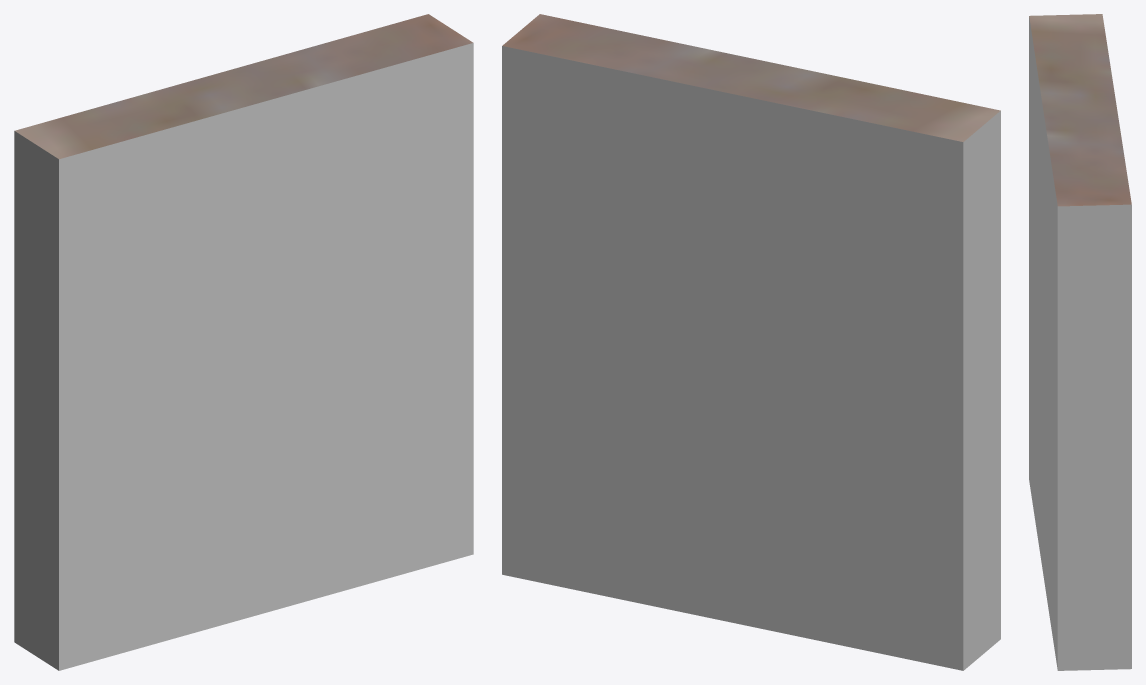
Rendered from DEBW_0010007THXd.gltf.
3 views of the same model, side by side, from view 1: azimuth 30°, elevation 25°; view 2: azimuth 150°, elevation 25°; view 3: azimuth 270°, elevation 25° (orthographic). The views are drawn at different scales.
Parts seen in each view (by area): view 1: Z_UP; view 2: Z_UP; view 3: Z_UP.
Part boxes in pixels (bbox=[...]): Z_UP: bbox=[14, 14, 473, 670]; Z_UP: bbox=[502, 14, 1000, 670]; Z_UP: bbox=[1029, 14, 1131, 670].
Bounding box in the file's own units: 6.21 × 6.99 × 1.4.
Materials: 2 (1 with a texture image).
